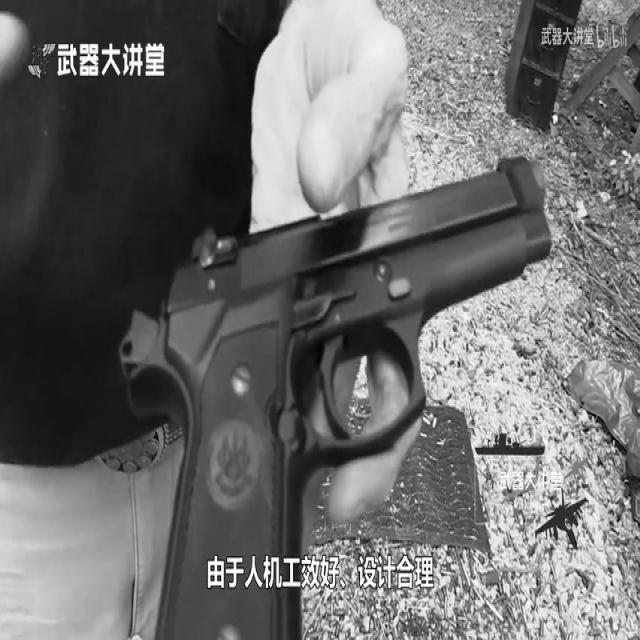Hand-Gun: (122, 127, 576, 640)
